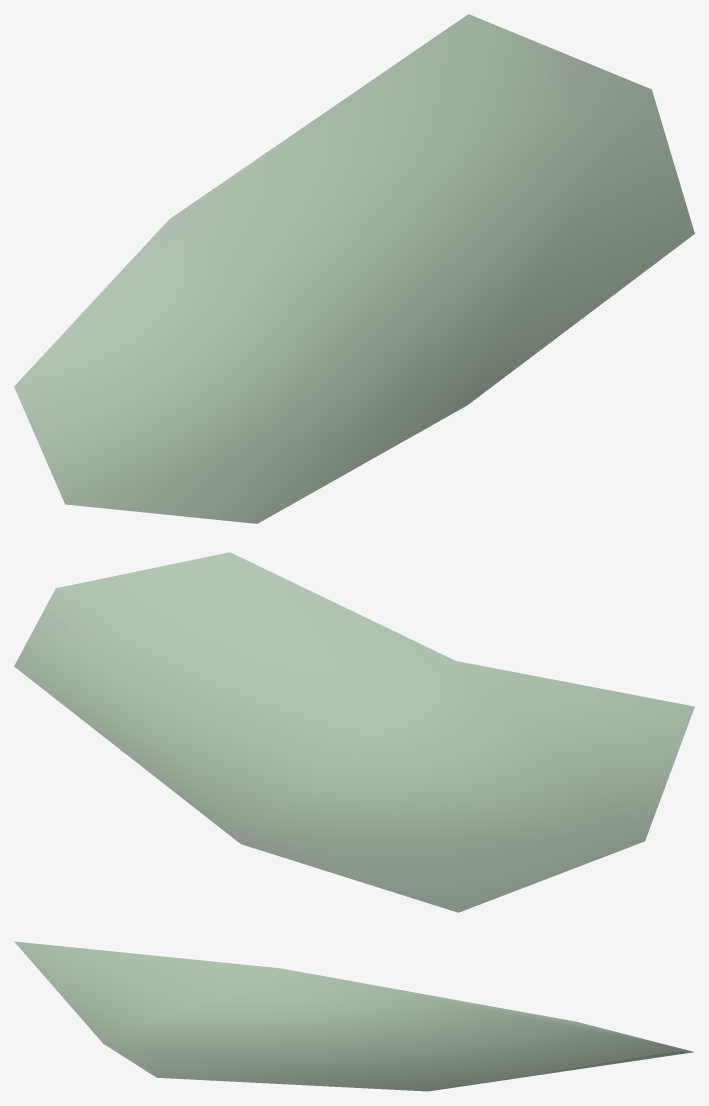
The model's file is TROLLHOLE02_HOLECAP178.fbx.
The picture shows the model from 3 angles, top to bottom: view 1: azimuth 30°, elevation 25°; view 2: azimuth 150°, elevation 25°; view 3: azimuth 270°, elevation 25°; orthographic projection. The views are drawn at different scales.
Parts seen in each view (by area): view 1: TROLLHOLE02_HOLECAP178; view 2: TROLLHOLE02_HOLECAP178; view 3: TROLLHOLE02_HOLECAP178.
Boxes of the visible parts, <box> form: TROLLHOLE02_HOLECAP178: <box>14,14,694,523</box>; TROLLHOLE02_HOLECAP178: <box>14,552,694,912</box>; TROLLHOLE02_HOLECAP178: <box>14,941,694,1091</box>.
Bounding box in the file's own units: 31431 × 9871 × 26863.
Materials: 1 (1 with a texture image).
